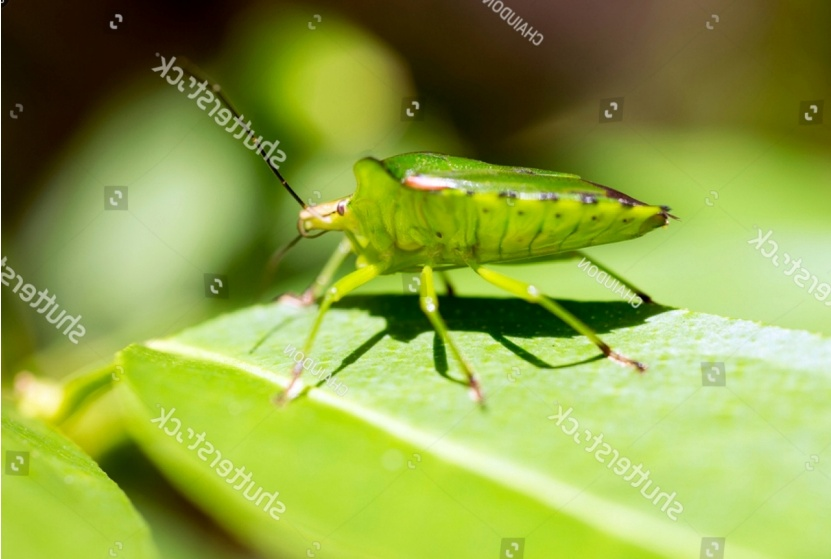Stink_Bug: (292, 149, 641, 261)
